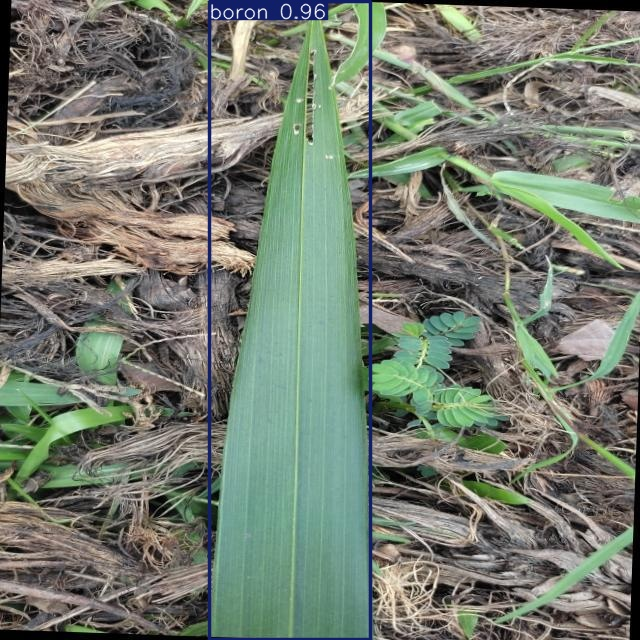nitrogen: (209, 2, 371, 640)
